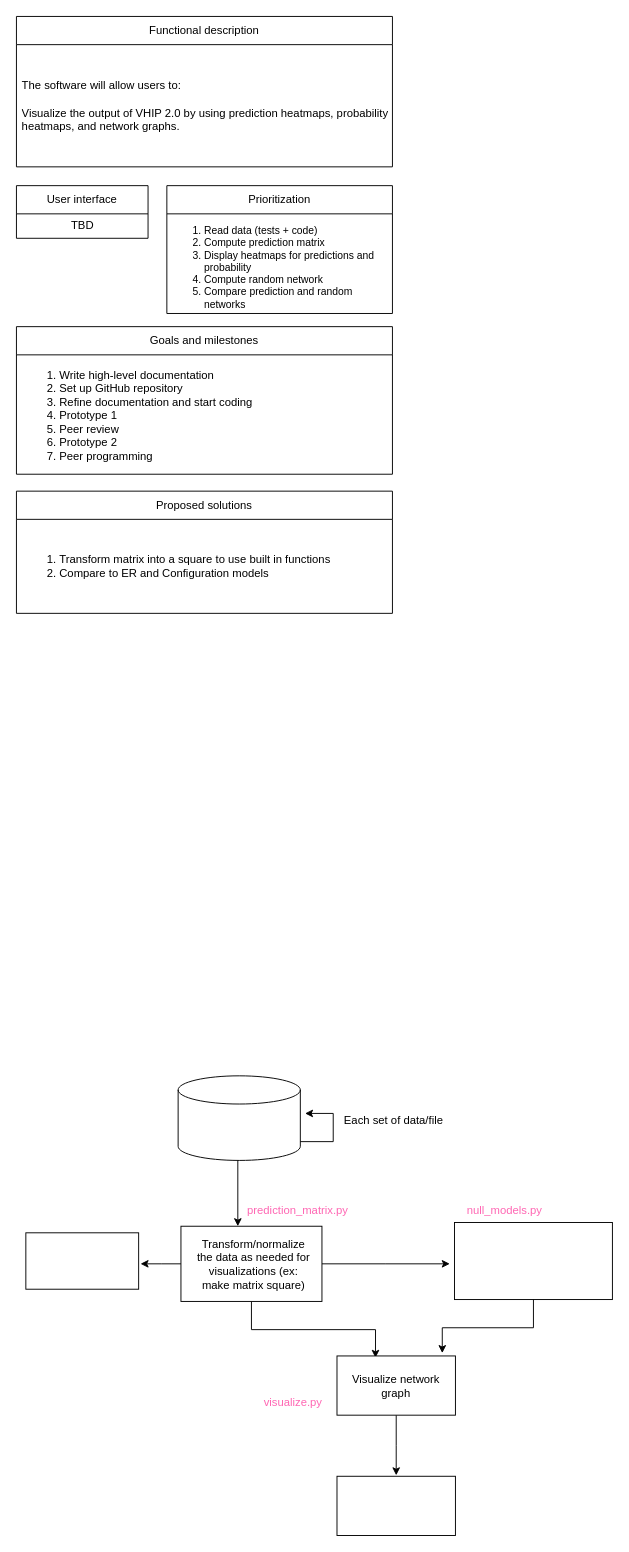
The diagram is 629 pixels wide and 1552 high, and some of its shapes have lost their labels. The centre of each missing label's shape, as x and y in pixels:
"Calculate differences, summary stats, etc." belongs at (x=395, y=1505).
"Input .tsv results from VHIP analysis" belongs at (x=238, y=1117).
"Plot heatmap for matrix" belongs at (x=82, y=1260).
"Put unique viruses and unique hosts in random network (ER or configuration)" belongs at (x=533, y=1261).
